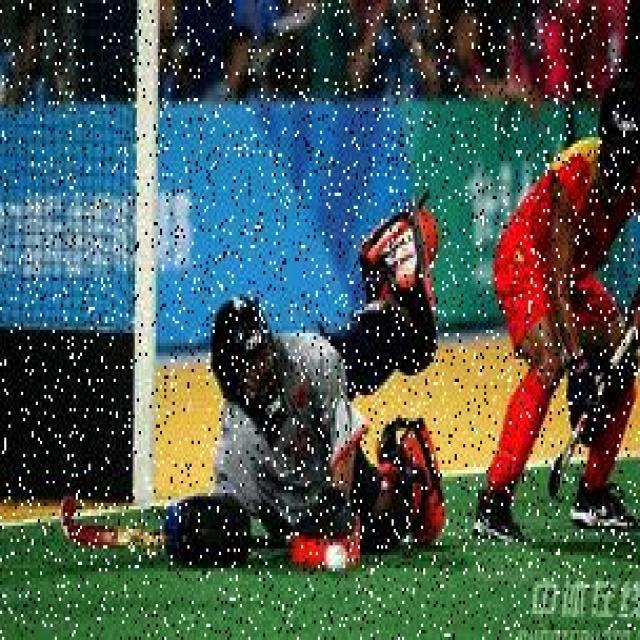fall: (187, 228, 438, 562)
